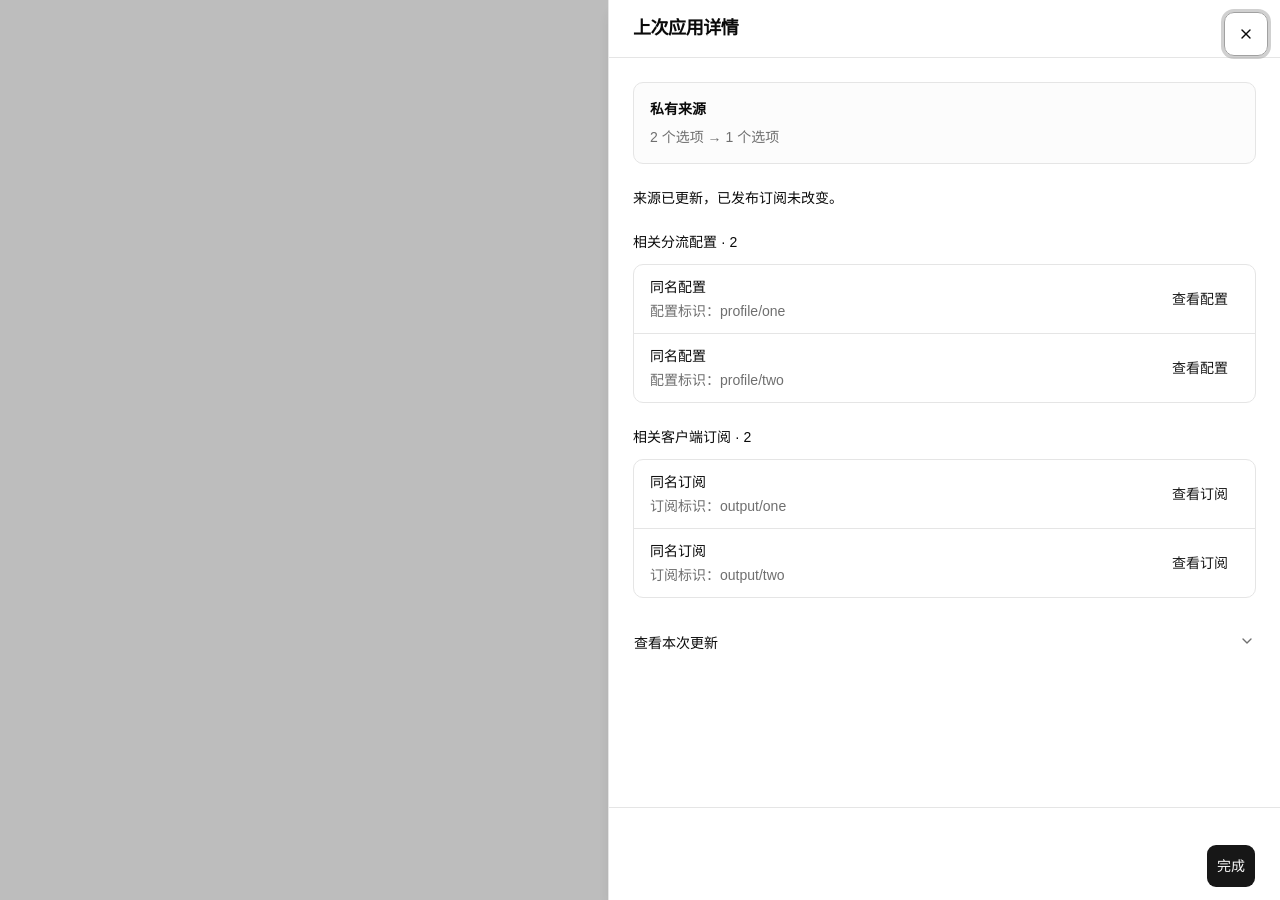
routes duplicate names by exact object IDs and keeps unresolved group and rule evidence without guessing parents
Expected: the number of links is 4, [1172,291,1228,307]; [1172,360,1228,376]; [1172,486,1228,502]; [1172,555,1228,571]
Click the button "查看本次更新" at (676, 643), box [633,622,1256,664]
(page scrolled)
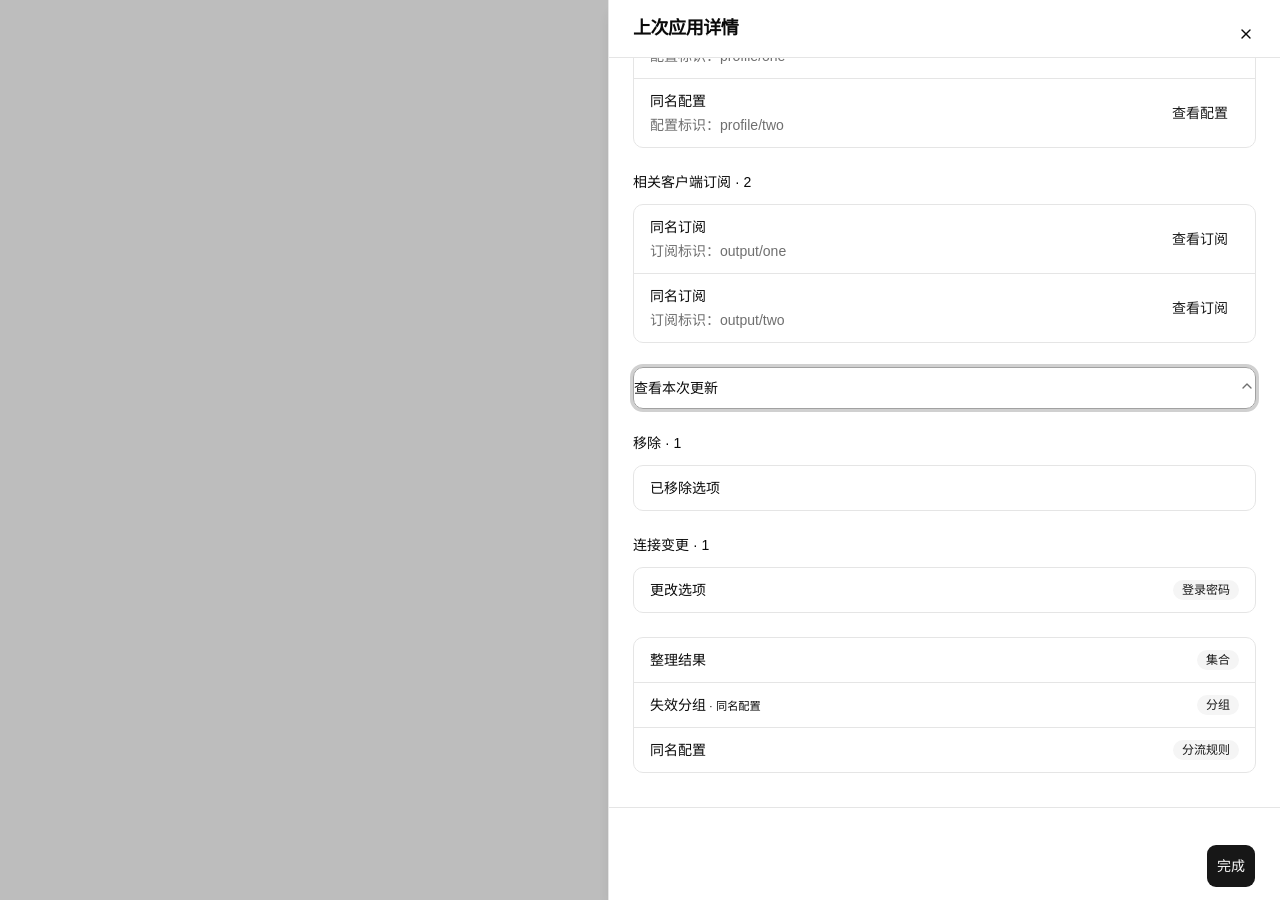
Expected: the text "已移除选项" is shown, [650,478,720,498]
Expected: the text "登录密码" is shown, [1173,580,1239,600]
Expected: the text "失效分组" is shown, [650,697,706,713]
